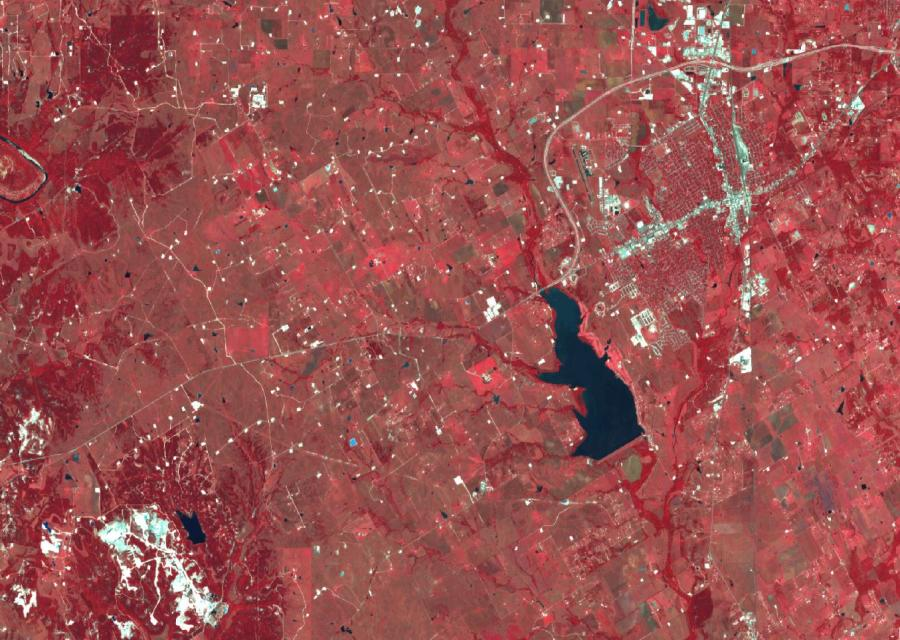Potential Lime Manufacturing Facility: (91, 503, 231, 632)
